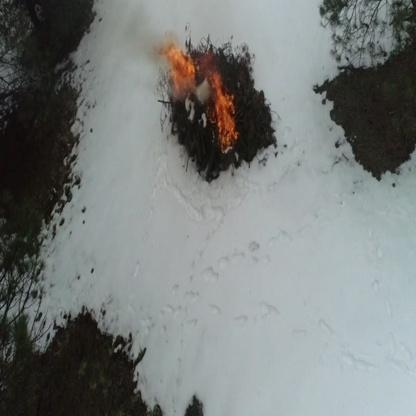Fire: (170, 46, 194, 98), (216, 95, 233, 153), (208, 74, 225, 94), (196, 57, 213, 75), (225, 130, 240, 140), (210, 110, 220, 124)
